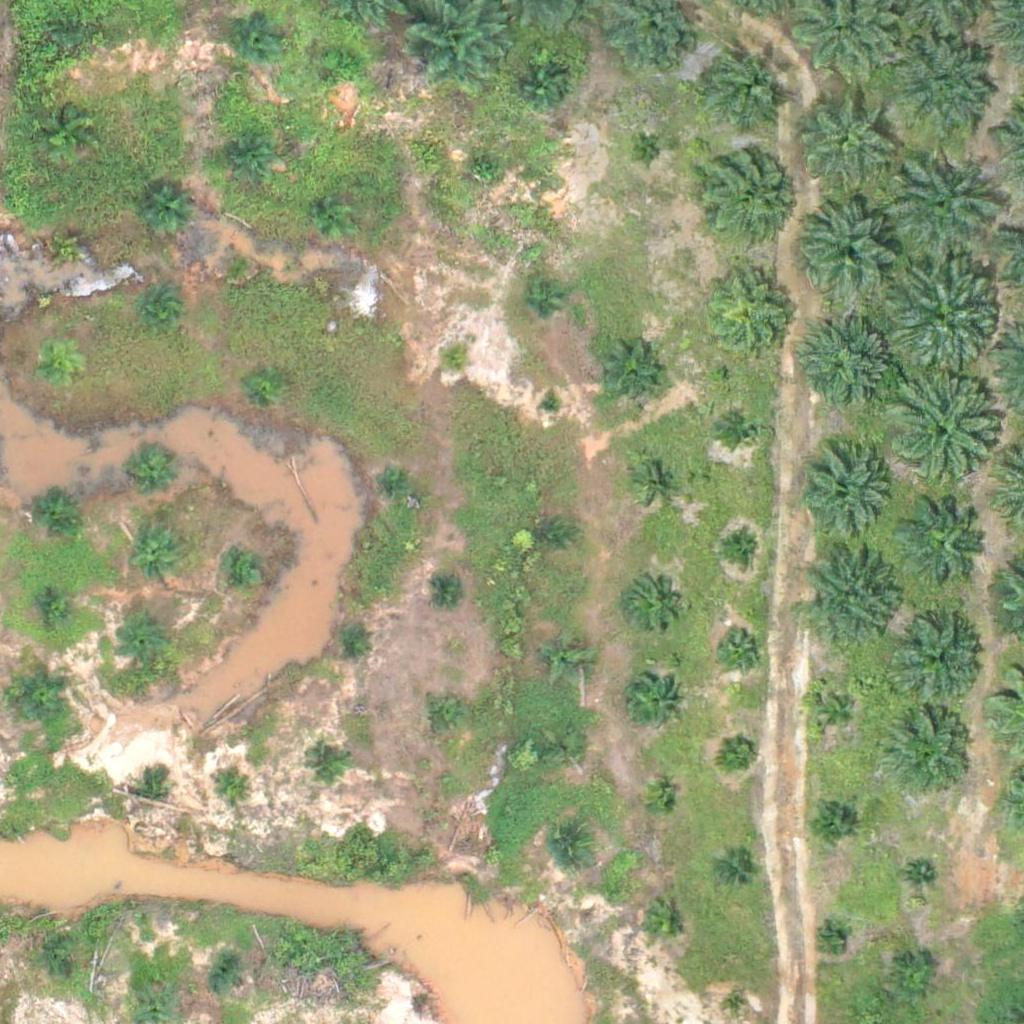Kelapa_Sawit: (878, 254, 1003, 379), (878, 373, 1003, 498), (887, 31, 1000, 144), (884, 149, 997, 262), (791, 82, 891, 183), (802, 199, 902, 300), (799, 318, 899, 419), (796, 446, 896, 547), (694, 37, 794, 138), (696, 143, 796, 244), (701, 264, 801, 365), (804, 548, 904, 649), (884, 706, 972, 794), (896, 614, 984, 702), (903, 501, 991, 589), (596, 345, 659, 408), (623, 672, 685, 735), (14, 667, 76, 729), (40, 108, 90, 159), (137, 188, 187, 239), (32, 345, 82, 396), (127, 446, 177, 497), (515, 59, 565, 110), (626, 575, 676, 626), (639, 899, 689, 950), (542, 632, 592, 683), (45, 217, 95, 268), (25, 485, 75, 535), (132, 530, 182, 580), (118, 616, 168, 666), (888, 955, 938, 1005), (807, 795, 857, 845), (810, 686, 860, 736), (715, 622, 765, 672), (221, 133, 271, 183), (234, 10, 284, 60), (532, 517, 570, 555), (324, 45, 362, 83), (315, 196, 353, 234), (467, 152, 505, 190), (629, 133, 667, 171), (435, 342, 473, 380), (37, 587, 75, 625), (726, 411, 764, 449), (205, 956, 243, 994), (225, 554, 262, 592), (642, 784, 680, 821), (720, 528, 757, 566), (638, 461, 675, 499), (432, 572, 470, 609), (308, 747, 345, 785), (549, 730, 587, 767), (722, 732, 759, 770), (53, 12, 90, 50), (519, 281, 556, 319), (216, 242, 253, 280), (212, 771, 249, 809), (49, 956, 86, 994), (142, 292, 179, 329), (718, 856, 755, 893), (550, 828, 587, 865), (330, 620, 367, 657), (427, 698, 464, 735), (247, 365, 284, 402), (378, 463, 415, 500), (135, 777, 160, 803), (819, 926, 844, 951), (724, 995, 749, 1020), (538, 391, 563, 416), (907, 862, 931, 887)
